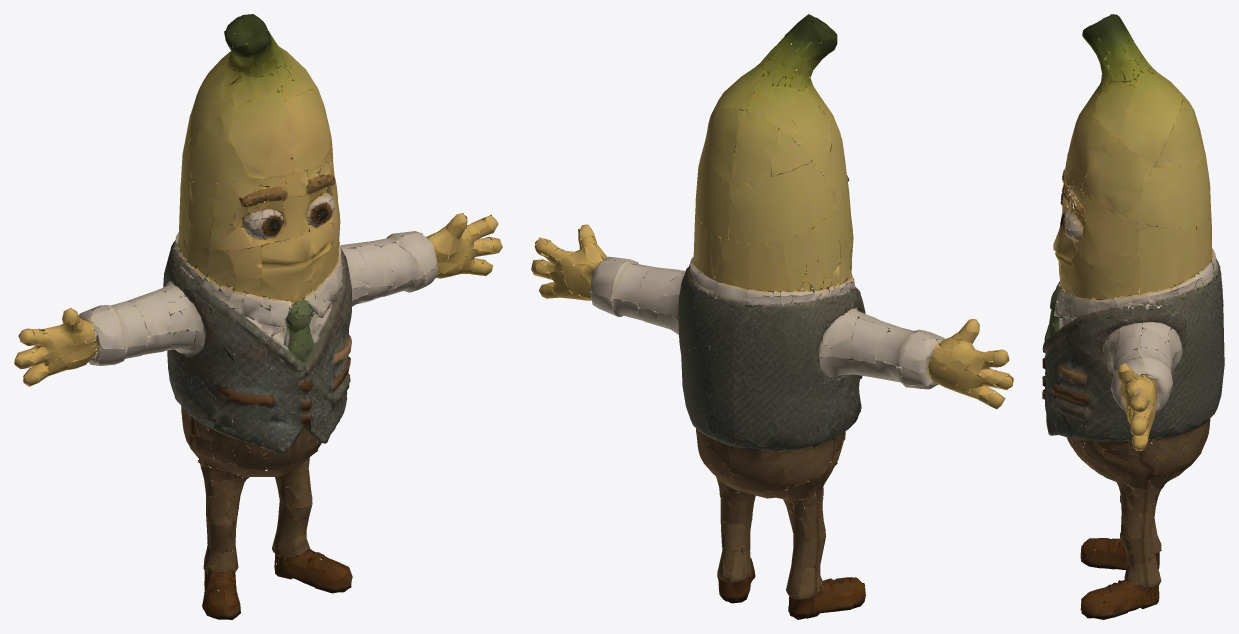
File: dibujo.glb
3 views of the same model, side by side, from view 1: azimuth 30°, elevation 25°; view 2: azimuth 150°, elevation 25°; view 3: azimuth 270°, elevation 25° (orthographic). The views are drawn at different scales.
Visible parts, largest first — view 1: tripo_part_9; view 2: tripo_part_9; view 3: tripo_part_9.
Boxes of the visible parts, bbox=[...] form: tripo_part_9: bbox=[14, 14, 502, 619]; tripo_part_9: bbox=[531, 14, 1013, 619]; tripo_part_9: bbox=[1042, 14, 1224, 619].
Size of the model in its own units: 0.8683 by 0.999 by 0.2943.
1 material, 1 textured.
